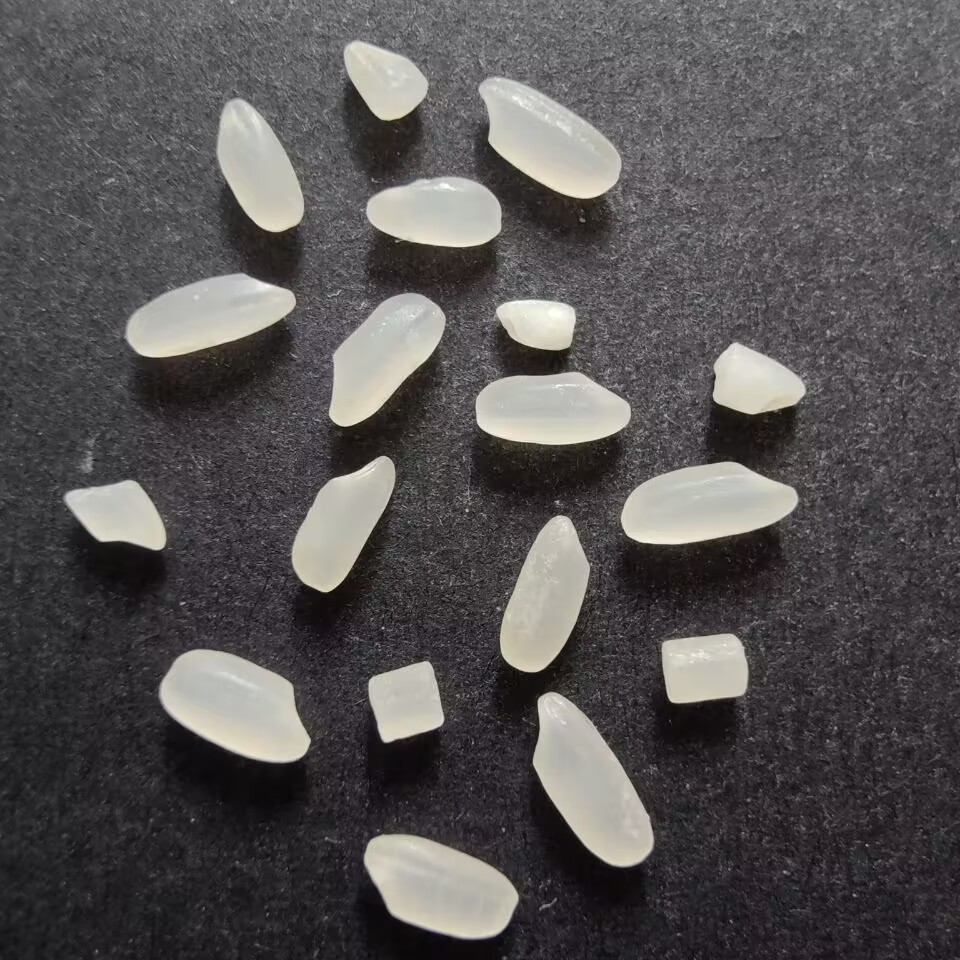broken: (59, 476, 173, 558), (336, 36, 431, 125), (656, 628, 752, 712), (707, 340, 809, 419), (365, 657, 447, 751), (491, 293, 580, 353)
rice: (527, 688, 657, 873), (154, 642, 314, 770), (475, 70, 625, 201), (357, 830, 520, 944), (325, 285, 449, 431), (614, 454, 806, 548), (494, 508, 591, 678), (122, 267, 297, 361), (290, 453, 398, 596), (211, 94, 306, 236), (470, 367, 634, 447), (364, 170, 504, 251)
